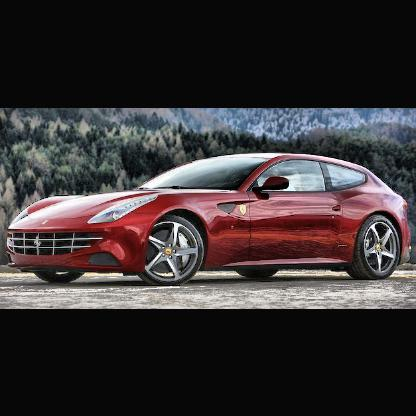Ferrari FF Coupe 2012: (6, 153, 412, 286)
